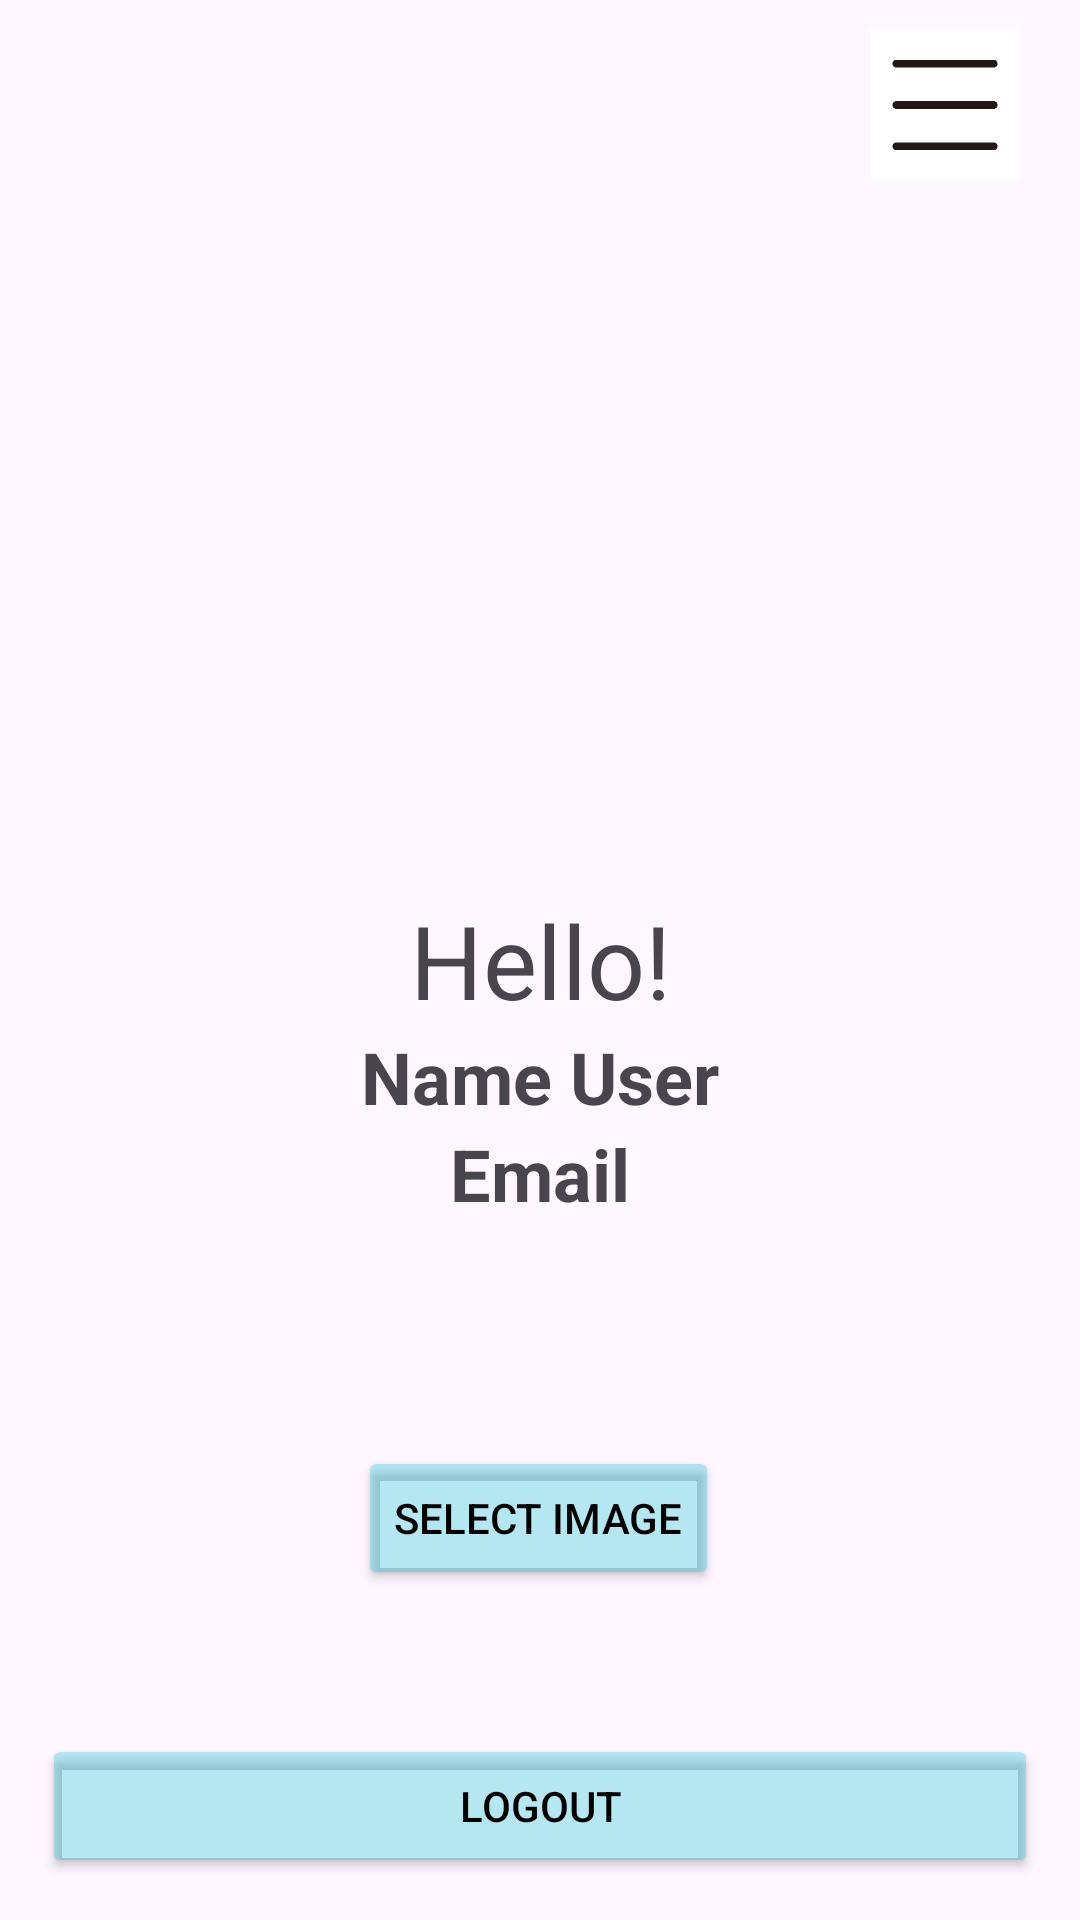

Locate icon controls on the screen. Image size 1080 x 1920, boxes as bbox=(x1, y1, x2, y2).
bar: bbox=(892, 60, 998, 150)
